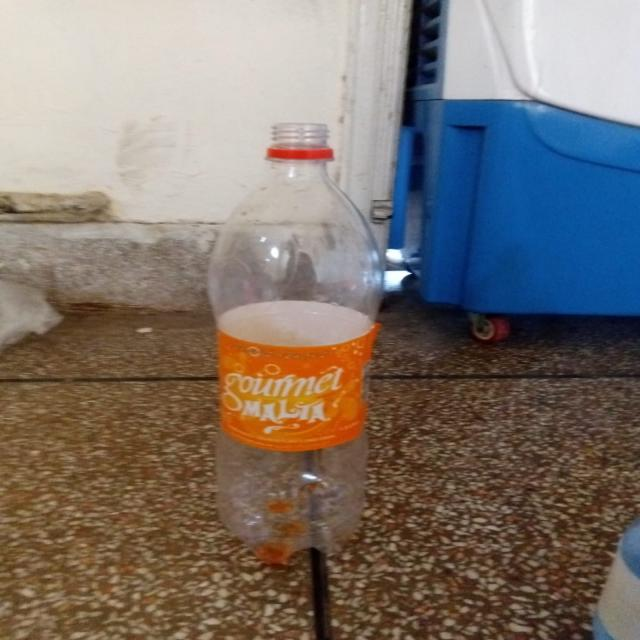bottle: (178, 106, 409, 571)
label: (188, 292, 398, 456)
